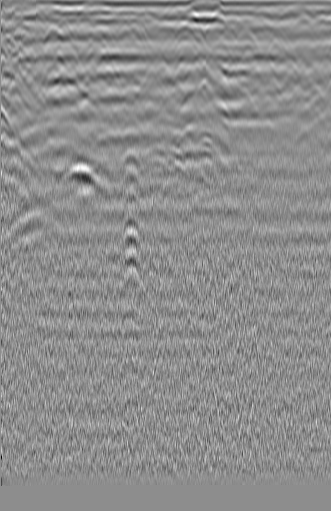상수: (280, 52, 318, 82)
오수: (9, 44, 32, 66)
우수: (137, 60, 181, 98)
